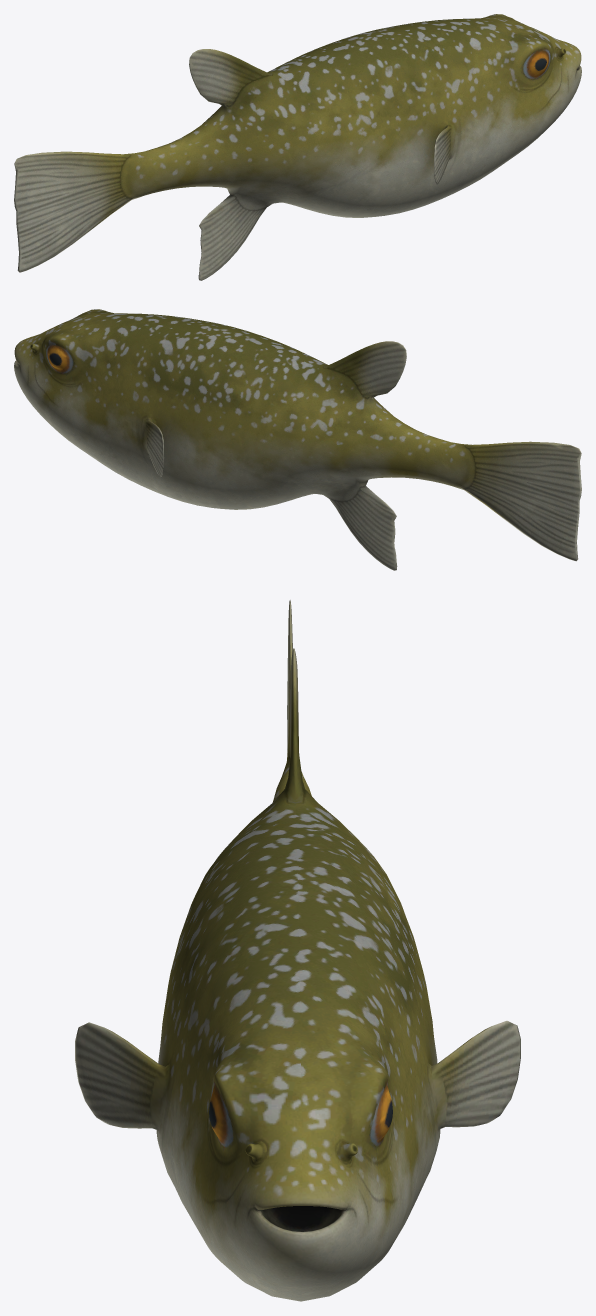
File: PufferFish.fbx
3 views of the same model, one above another, from view 1: azimuth 30°, elevation 25°; view 2: azimuth 150°, elevation 25°; view 3: azimuth 270°, elevation 25° (orthographic). The views are drawn at different scales.
Visible parts, largest first — view 1: PufferFish_hover 4; view 2: PufferFish_hover 4; view 3: PufferFish_hover 4.
Part boxes in pixels (x1=…): PufferFish_hover 4: x1=14, y1=14, x2=581, y2=280; PufferFish_hover 4: x1=14, y1=309, x2=581, y2=570; PufferFish_hover 4: x1=75, y1=600, x2=520, y2=1301.
Bounding box in the file's own units: 498 × 194 × 171.
1 material, 1 textured.
